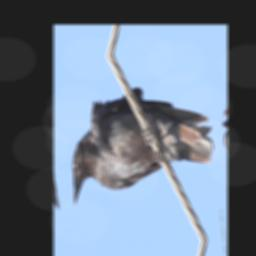Crow: (63, 65, 215, 210)
